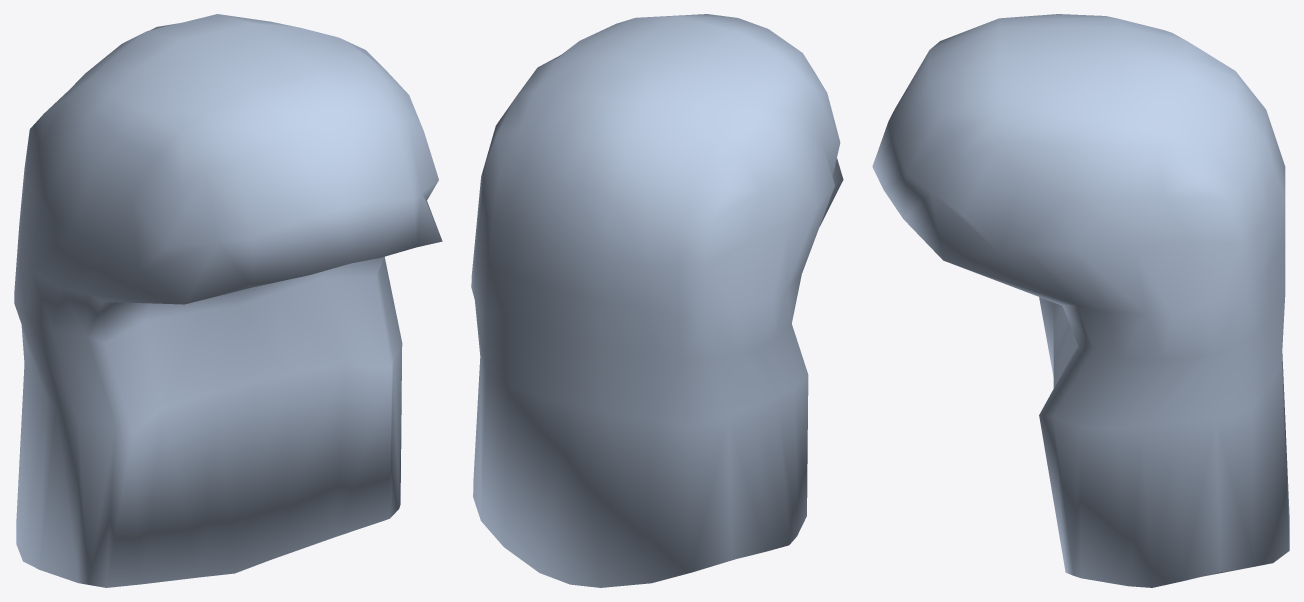
Rendered from cabello chica 02.dae.
3 views of the same model, side by side, from view 1: azimuth 30°, elevation 25°; view 2: azimuth 150°, elevation 25°; view 3: azimuth 270°, elevation 25° (orthographic). The views are drawn at different scales.
Parts seen in each view (by area): view 1: pasted__polySurface14; view 2: pasted__polySurface14; view 3: pasted__polySurface14.
Part boxes in pixels (x1,y1,x2,y2): pasted__polySurface14: [14, 14, 442, 587]; pasted__polySurface14: [471, 14, 843, 587]; pasted__polySurface14: [872, 14, 1289, 587].
Bounding box in the file's own units: 1.1 × 1.56 × 1.19.
